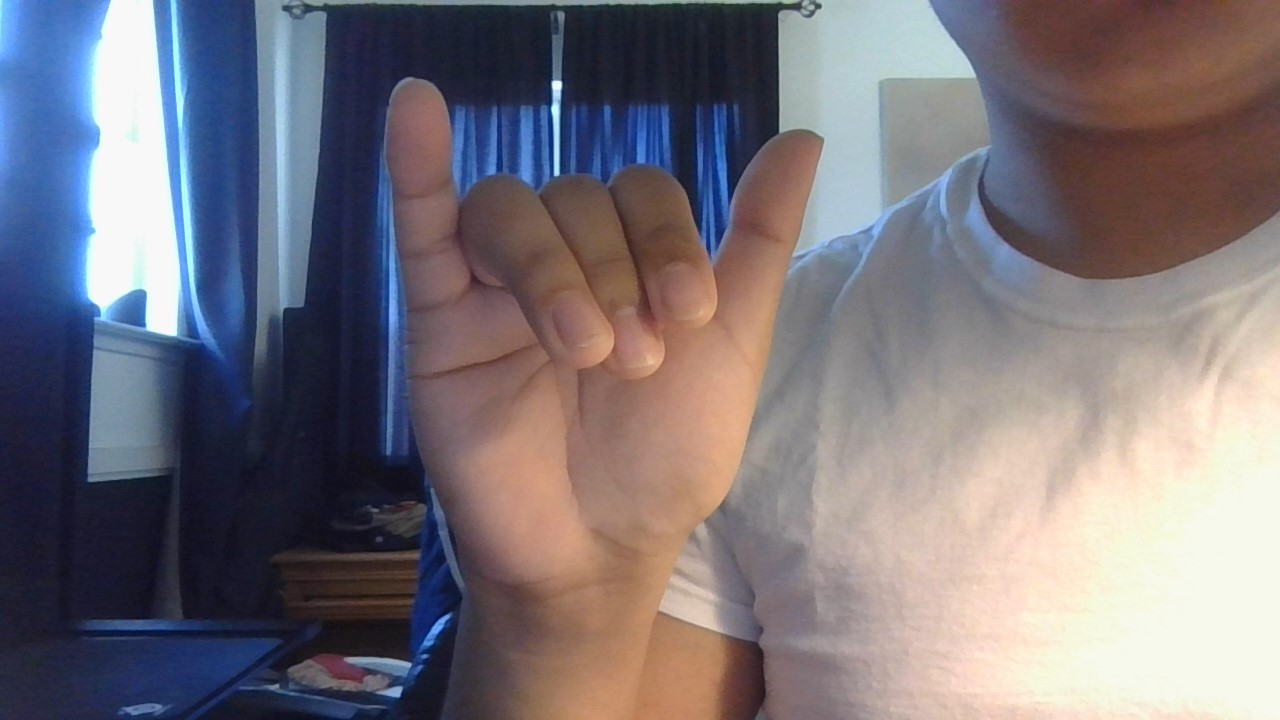y: (344, 54, 833, 606)
